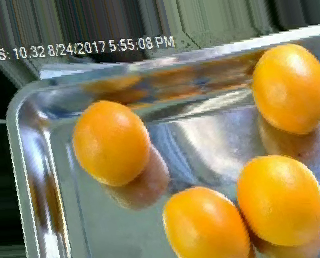Orange: (237, 155, 320, 246), (72, 99, 151, 188), (161, 184, 251, 258), (251, 41, 320, 134)
